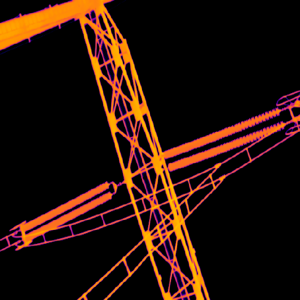insulator: (159, 105, 280, 159), (167, 121, 284, 170), (20, 180, 108, 231), (24, 191, 112, 241)
